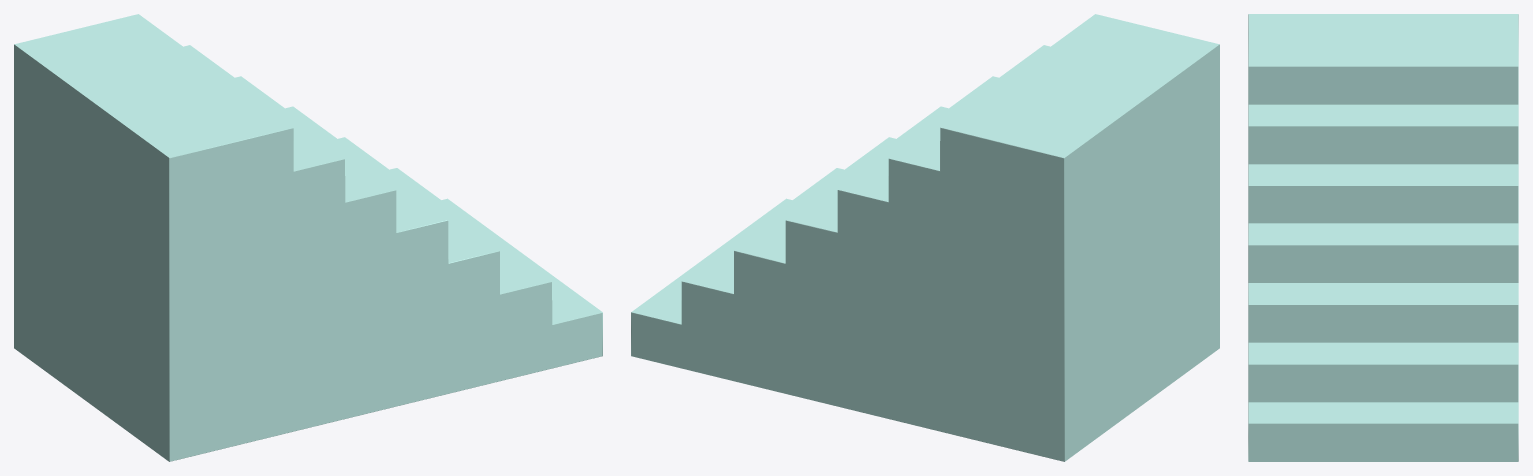
Rendered from Stairs.glb.
3 renders of one model, left to right at view 1: azimuth 30°, elevation 25°; view 2: azimuth 150°, elevation 25°; view 3: azimuth 270°, elevation 25°, orthographic. The views are drawn at different scales.
Visible parts, largest first — view 1: stairs; view 2: stairs; view 3: stairs.
Part boxes in pixels (left/top/right/bottom): stairs: left=14, top=14, right=602, bottom=461; stairs: left=631, top=14, right=1219, bottom=461; stairs: left=1248, top=14, right=1518, bottom=461.
Size of the model in its own units: 83.86 by 56.2 by 52.12.
